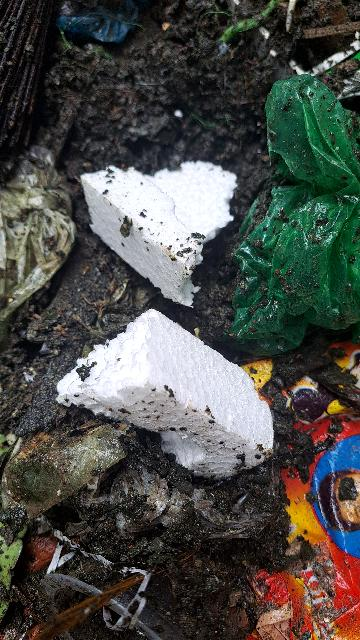cocksheet: (60, 125, 314, 497)
